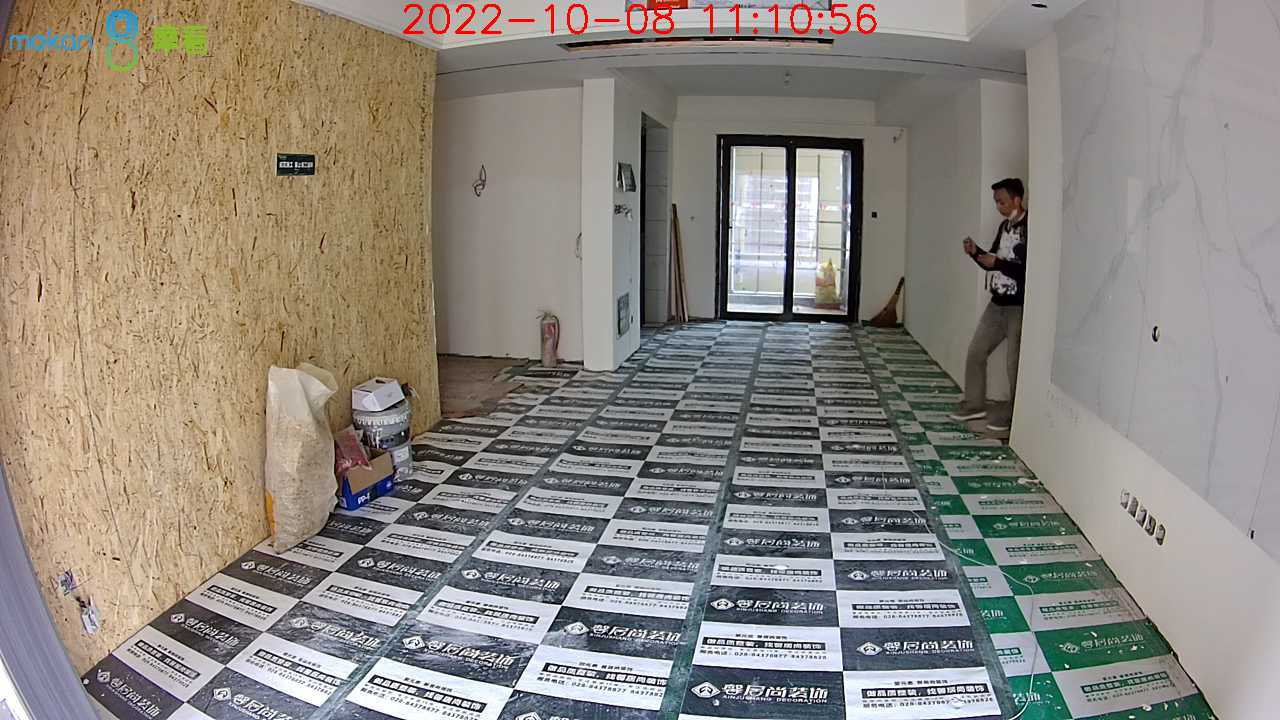people: (948, 177, 1029, 427)
window: (722, 141, 860, 321)
